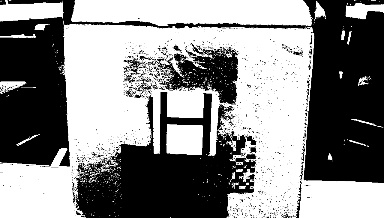H: (150, 89, 217, 155)
